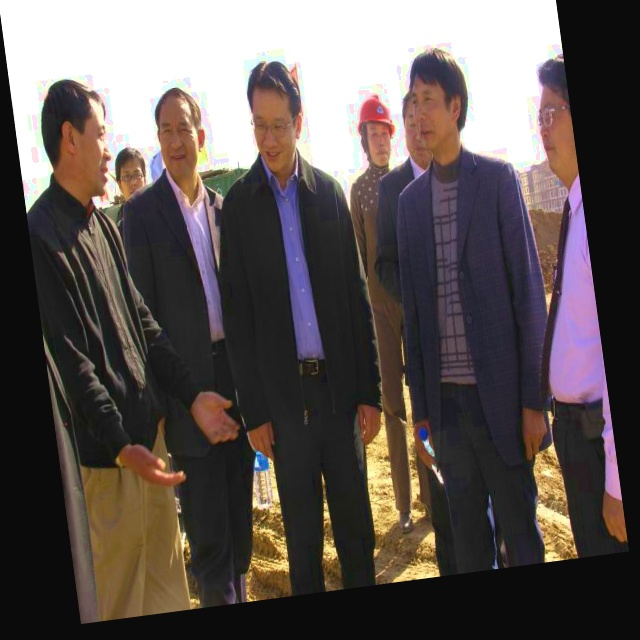Sin_Casco_Mascarrilla: (35, 75, 115, 197), (405, 45, 475, 154), (242, 56, 309, 165), (150, 84, 209, 177)
